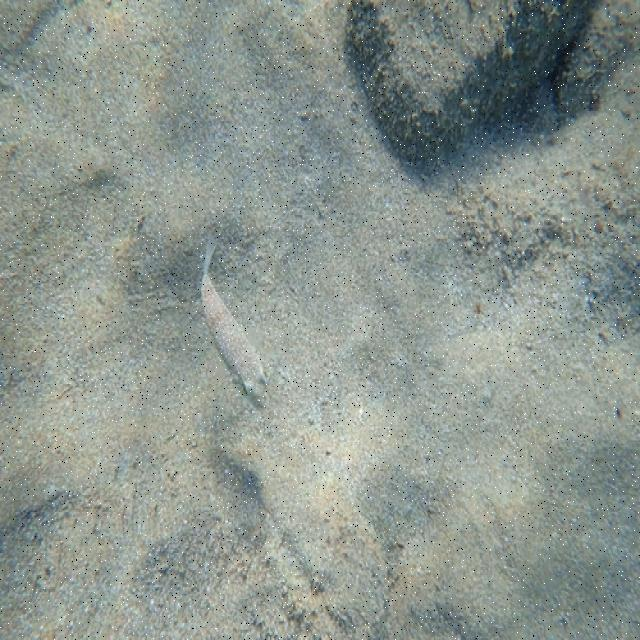Balik: (201, 238, 266, 399)
